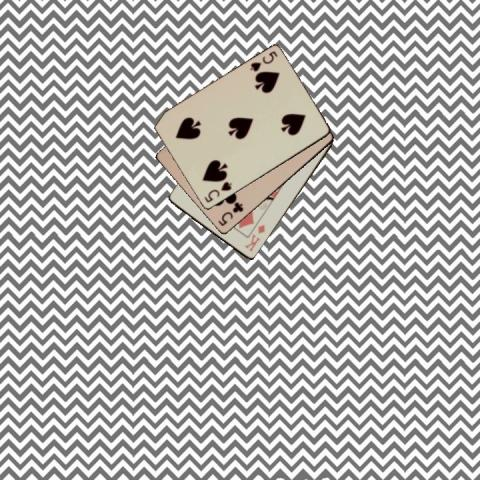5c: (214, 200, 244, 228)
5s: (202, 179, 234, 204), (246, 48, 278, 73)
Kd: (242, 222, 267, 253)
